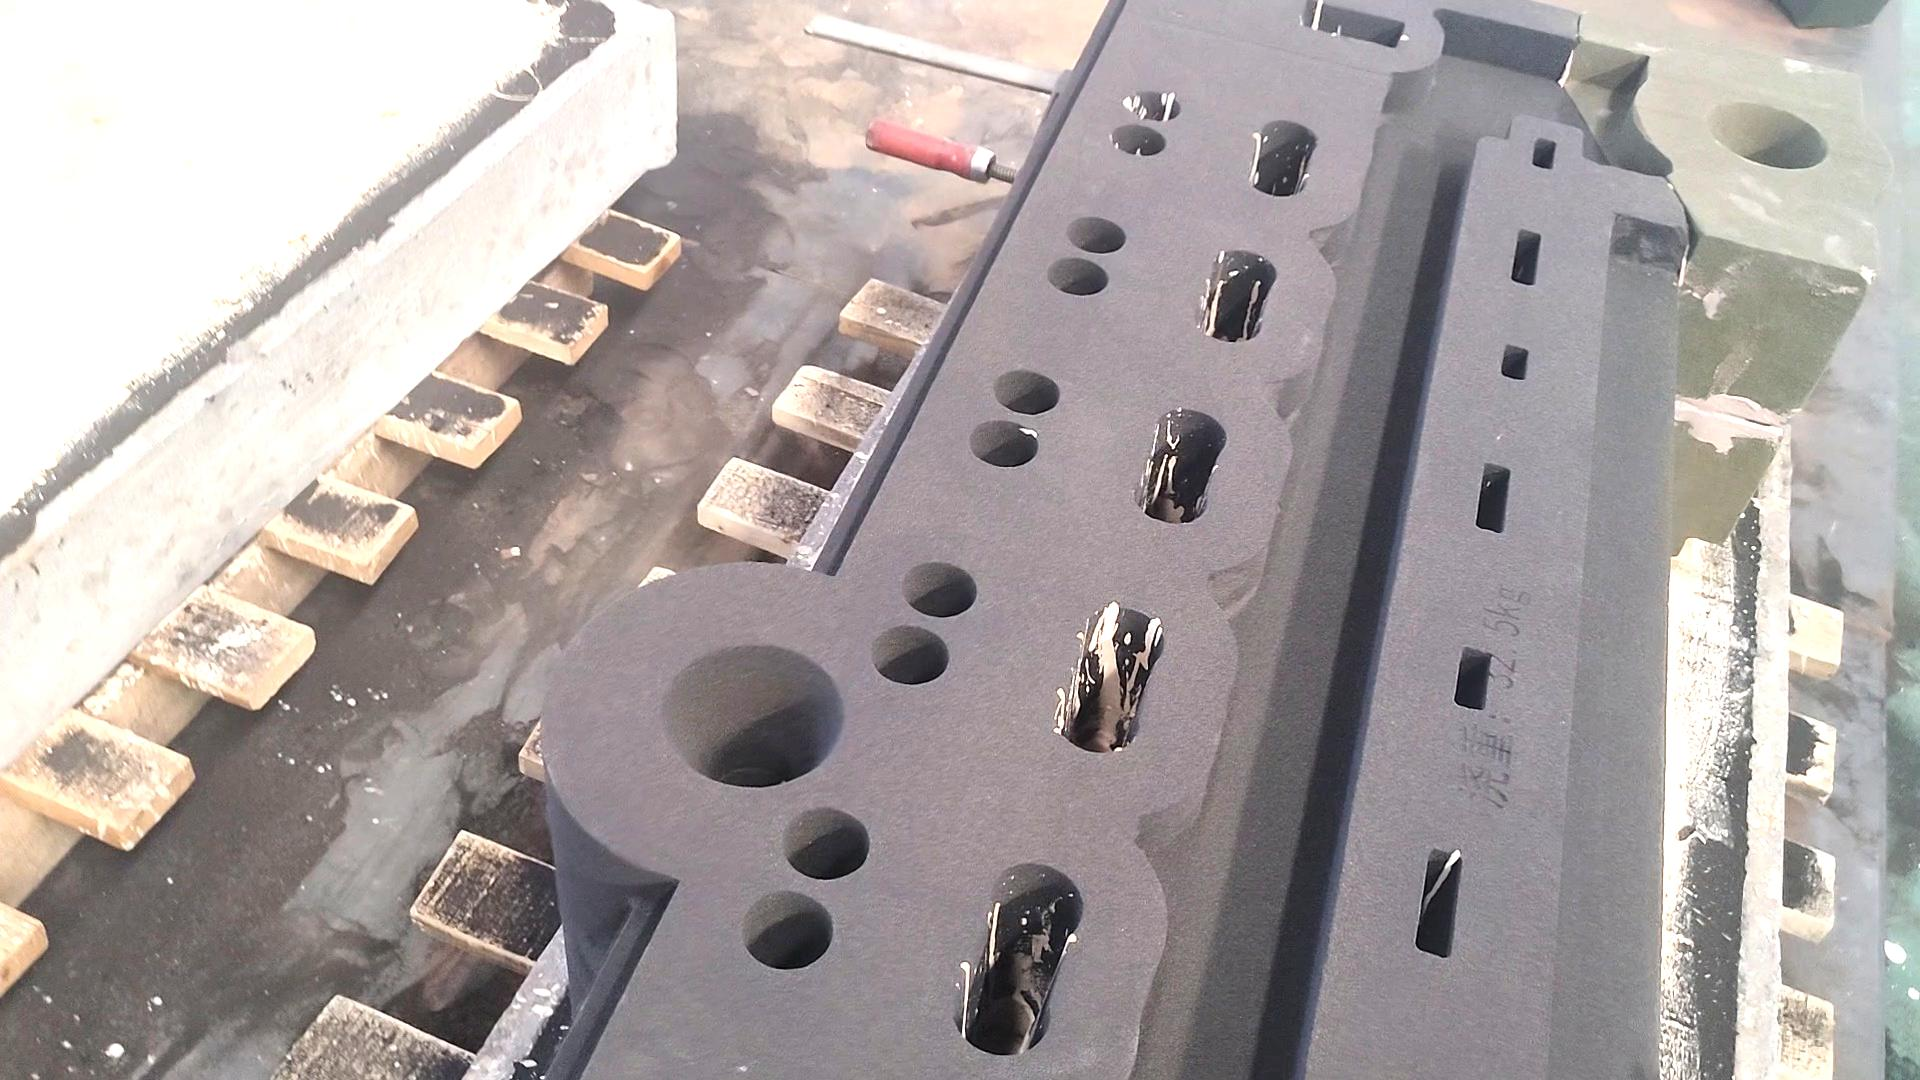pouring hole: (659, 645, 843, 786), (1705, 100, 1829, 169)
